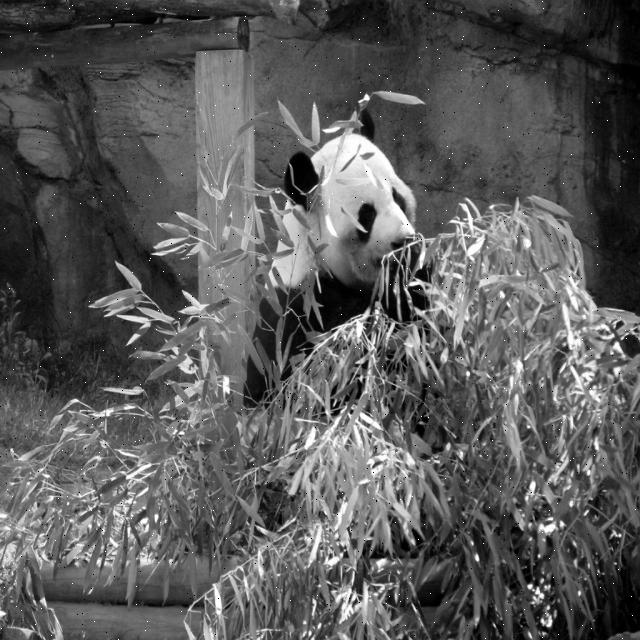panda: (244, 107, 432, 409)
